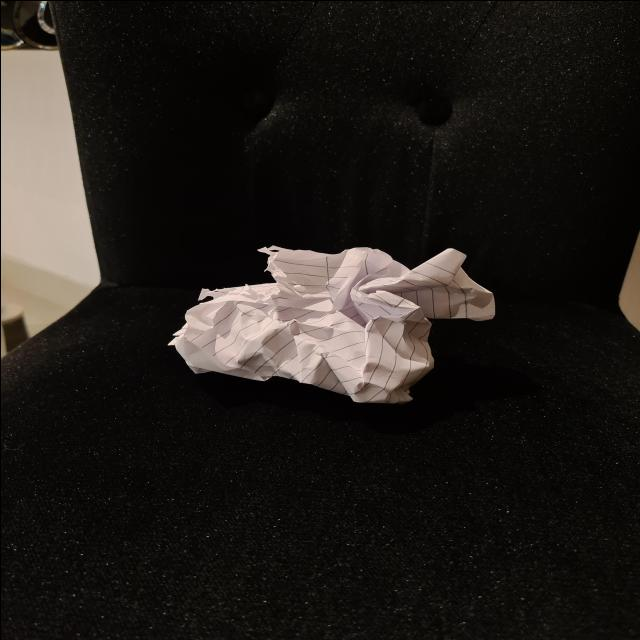kertas: (168, 245, 510, 399)
